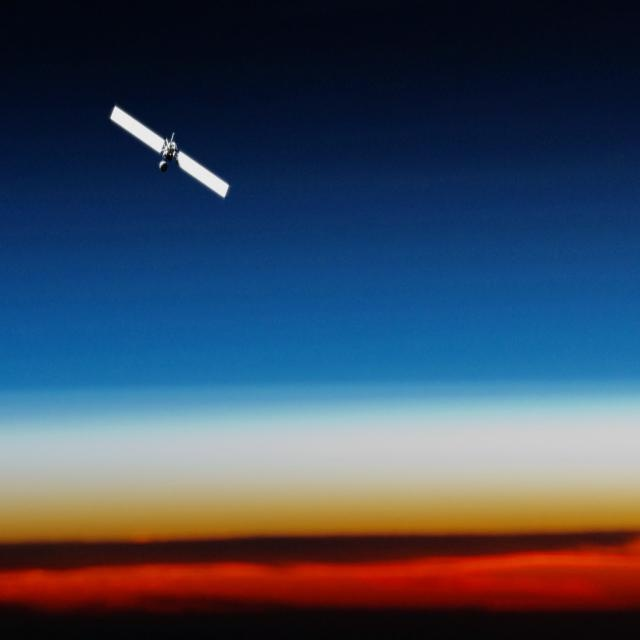satellite: (90, 98, 237, 210)
